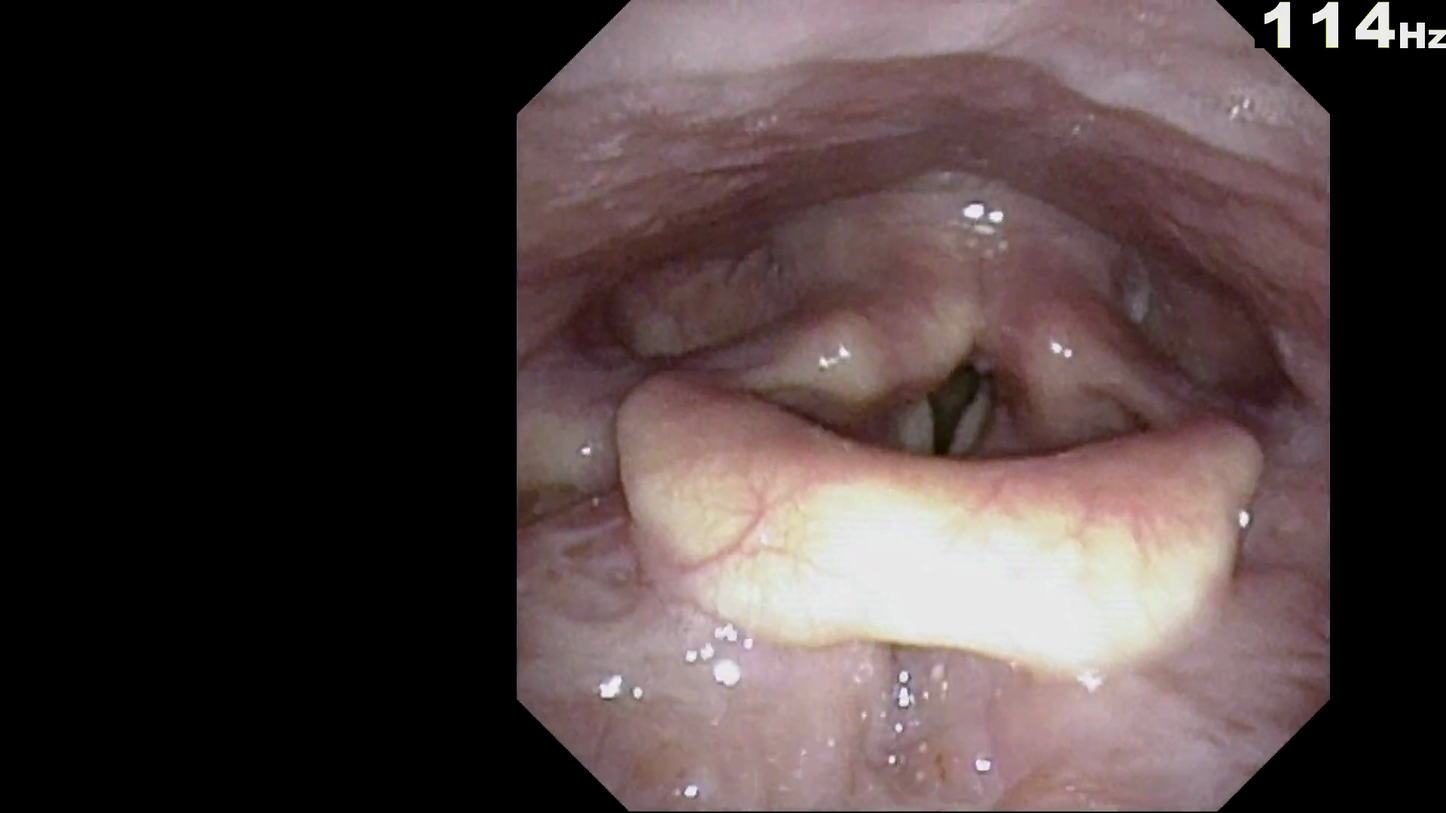epiglottis: (590, 363, 1280, 692)
trachea: (862, 302, 1041, 527)
